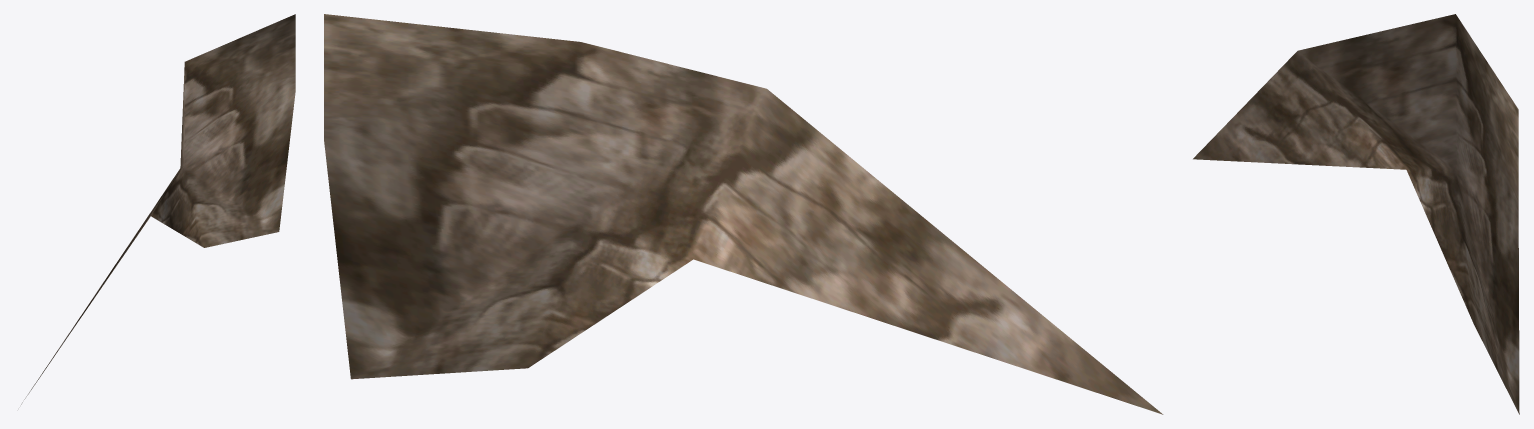
File: OVERHILL_A_01_LINE20.fbx
3 renders of one model, left to right at view 1: azimuth 30°, elevation 25°; view 2: azimuth 150°, elevation 25°; view 3: azimuth 270°, elevation 25°, orthographic. The views are drawn at different scales.
Parts seen in each view (by area): view 1: OVERHILL_A_01_LINE20; view 2: OVERHILL_A_01_LINE20; view 3: OVERHILL_A_01_LINE20.
Part boxes in pixels (x1,y1,x2,y2): OVERHILL_A_01_LINE20: [21, 14, 295, 404]; OVERHILL_A_01_LINE20: [324, 14, 1163, 414]; OVERHILL_A_01_LINE20: [1193, 14, 1519, 414].
Size of the model in its own units: 44867 by 24594 by 21905.
Materials: 1 (1 with a texture image).
